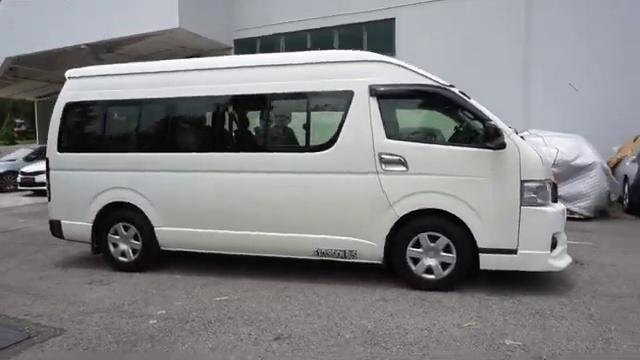van: (41, 49, 575, 277)
